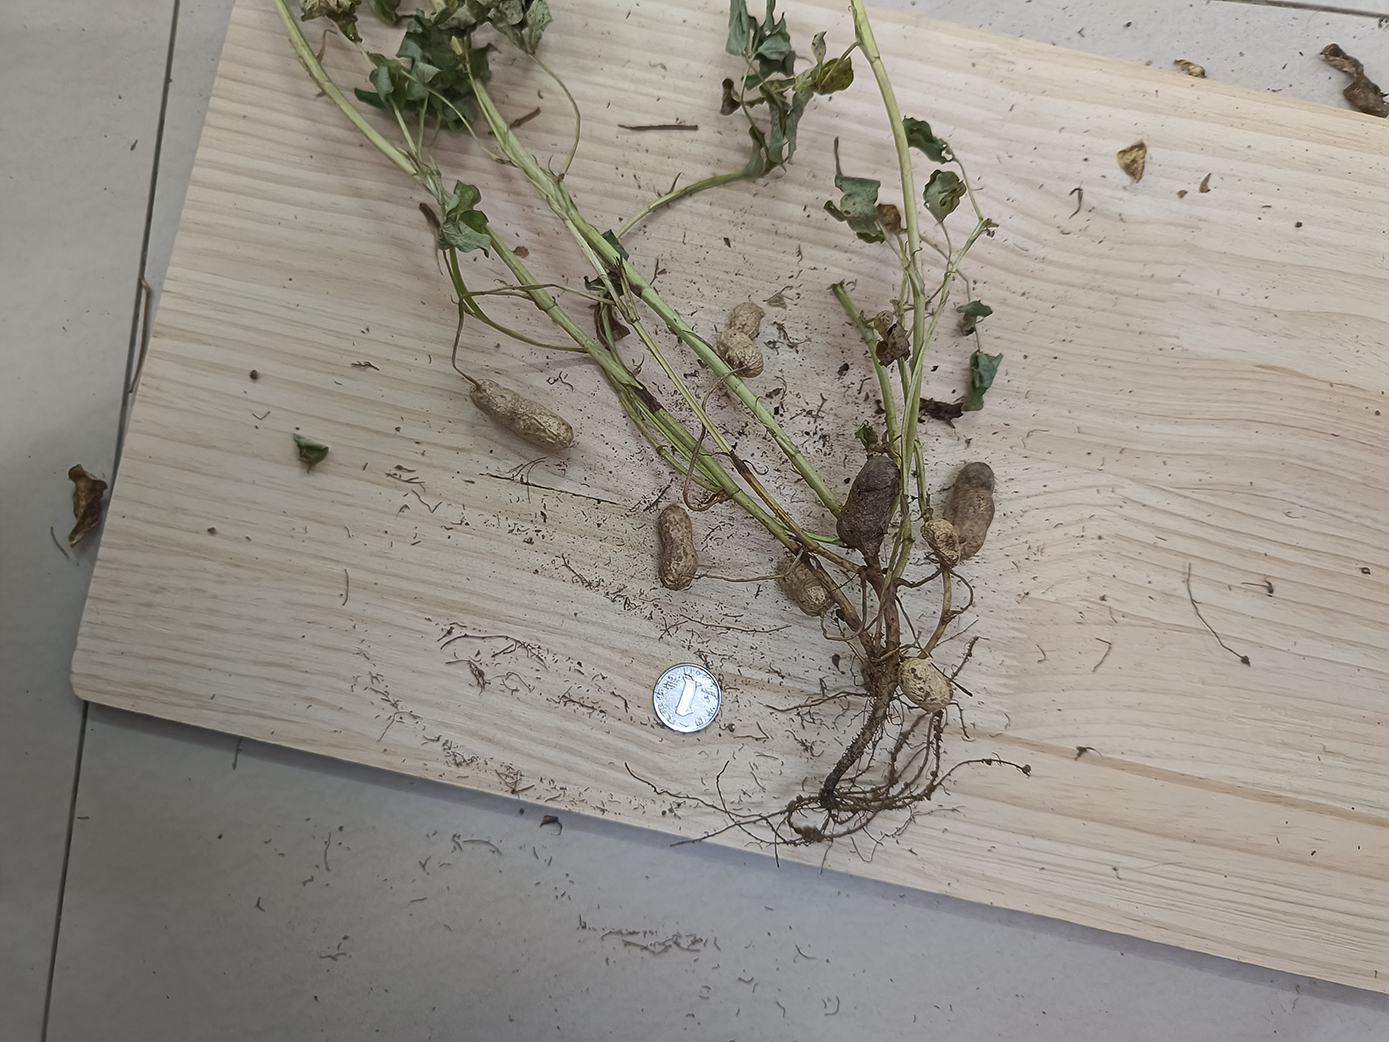h: (471, 379, 572, 450), (656, 503, 698, 589), (719, 303, 765, 377), (778, 556, 832, 615), (898, 657, 953, 713), (921, 519, 961, 565)
l: (836, 456, 903, 549), (951, 462, 996, 561)
